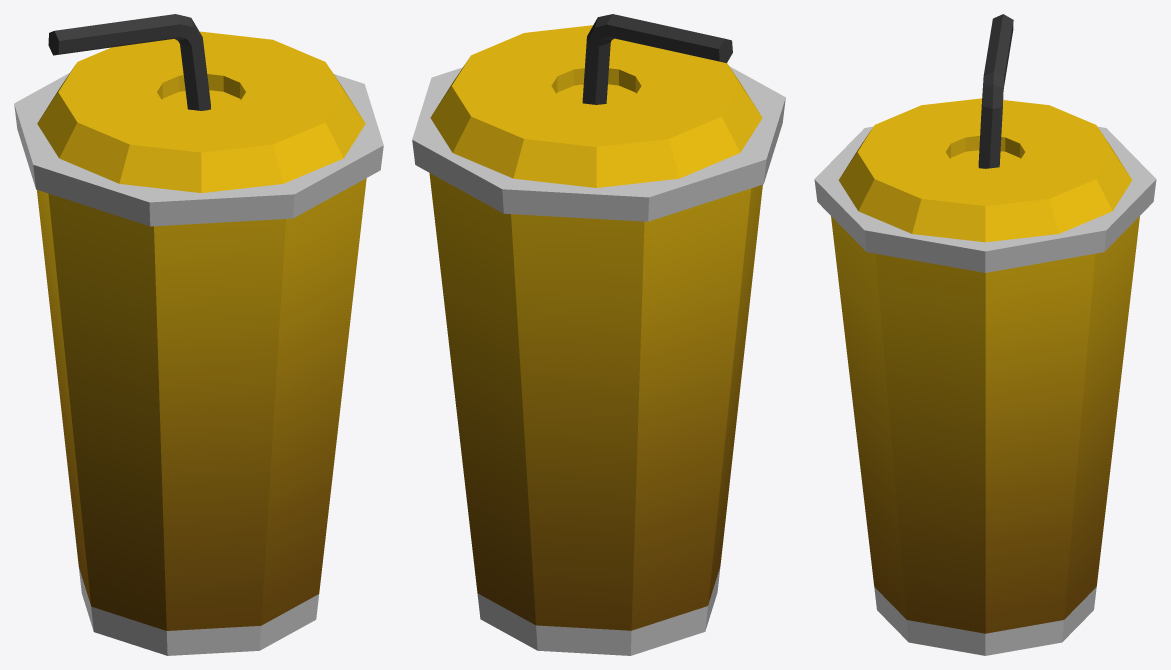
File: SM_Food_Soda_02.fbx
3 renders of one model, left to right at view 1: azimuth 30°, elevation 25°; view 2: azimuth 150°, elevation 25°; view 3: azimuth 270°, elevation 25°, orthographic. The views are drawn at different scales.
Parts seen in each view (by area): view 1: SM_Food_Soda_02; view 2: SM_Food_Soda_02; view 3: SM_Food_Soda_02.
Part boxes in pixels (x1=…): SM_Food_Soda_02: x1=14, y1=14, x2=383, y2=655; SM_Food_Soda_02: x1=412, y1=14, x2=785, y2=655; SM_Food_Soda_02: x1=814, y1=14, x2=1156, y2=655.
Bounding box in the file's own units: 0.1187 × 0.2057 × 0.1187.
